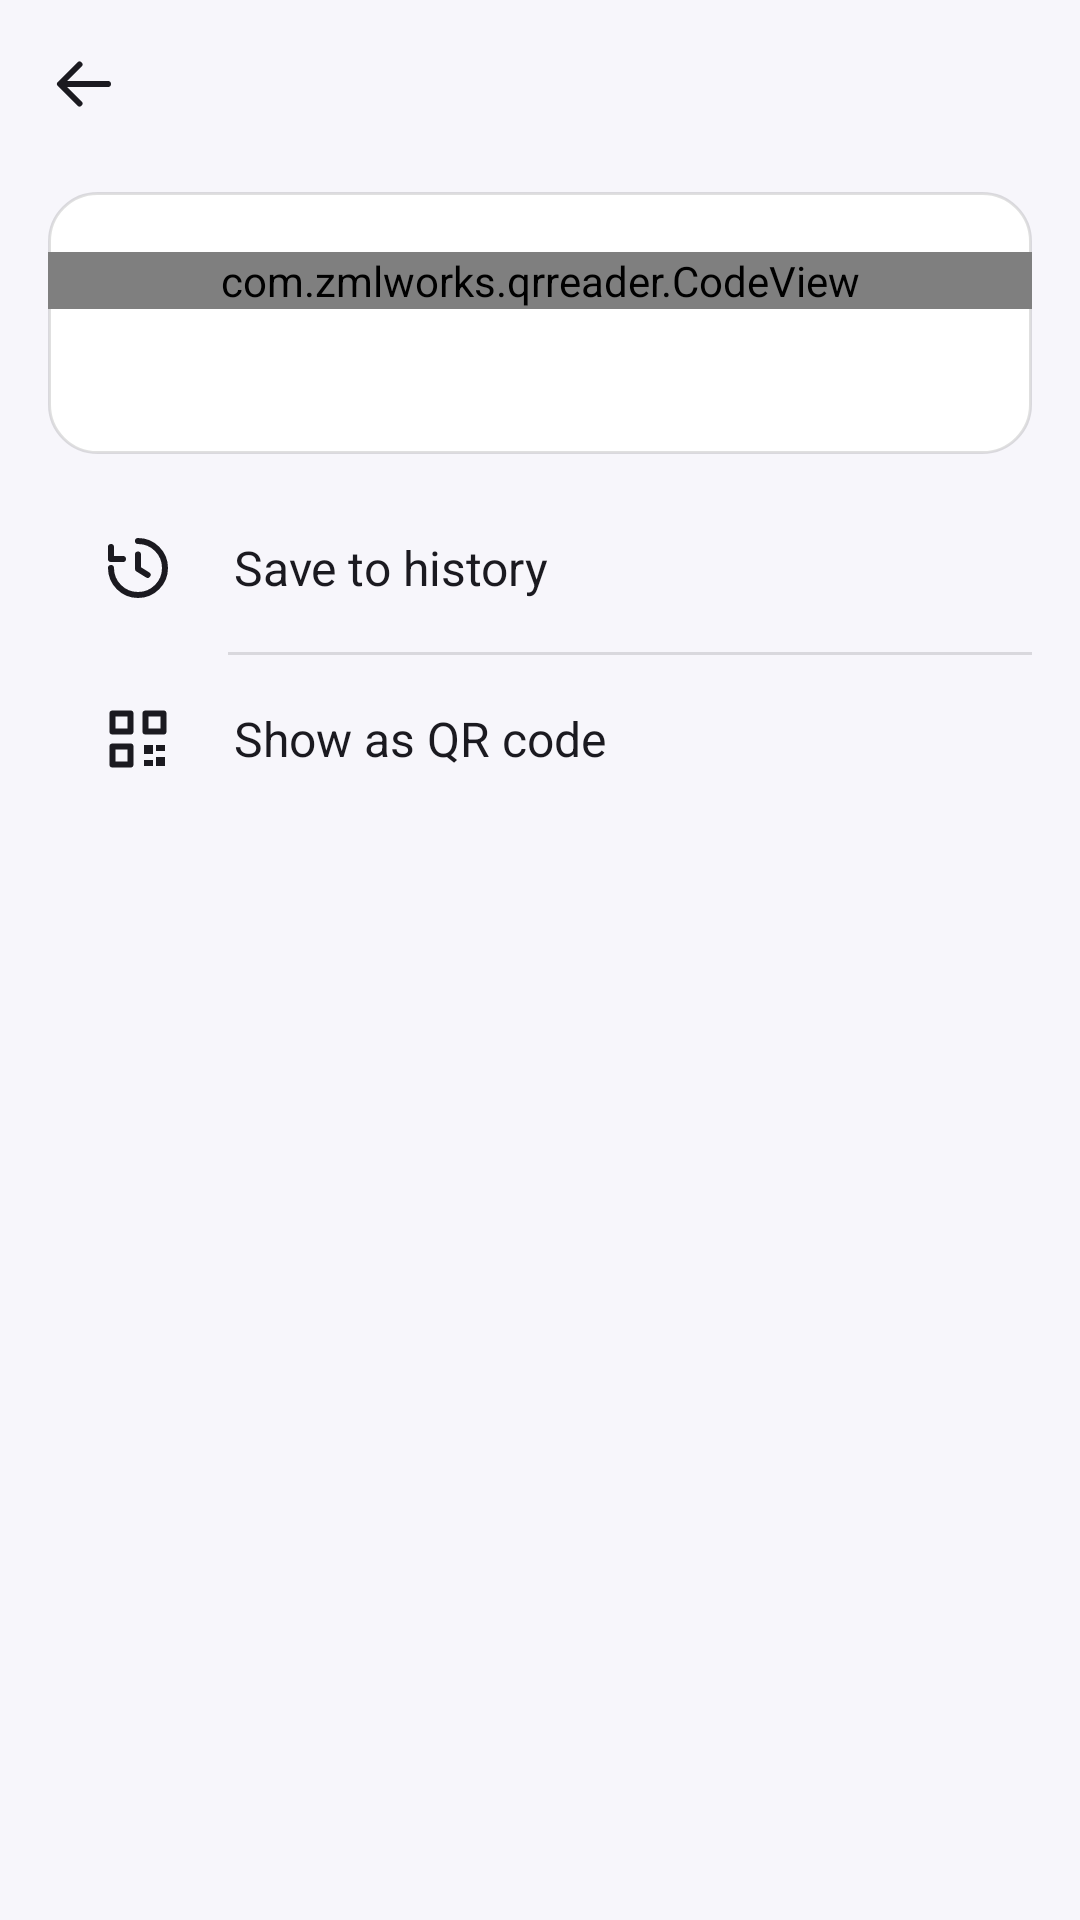

Icons on this 1080*1920 Android screen, each with the point to tap as [x,y]:
Back: [84,84]
